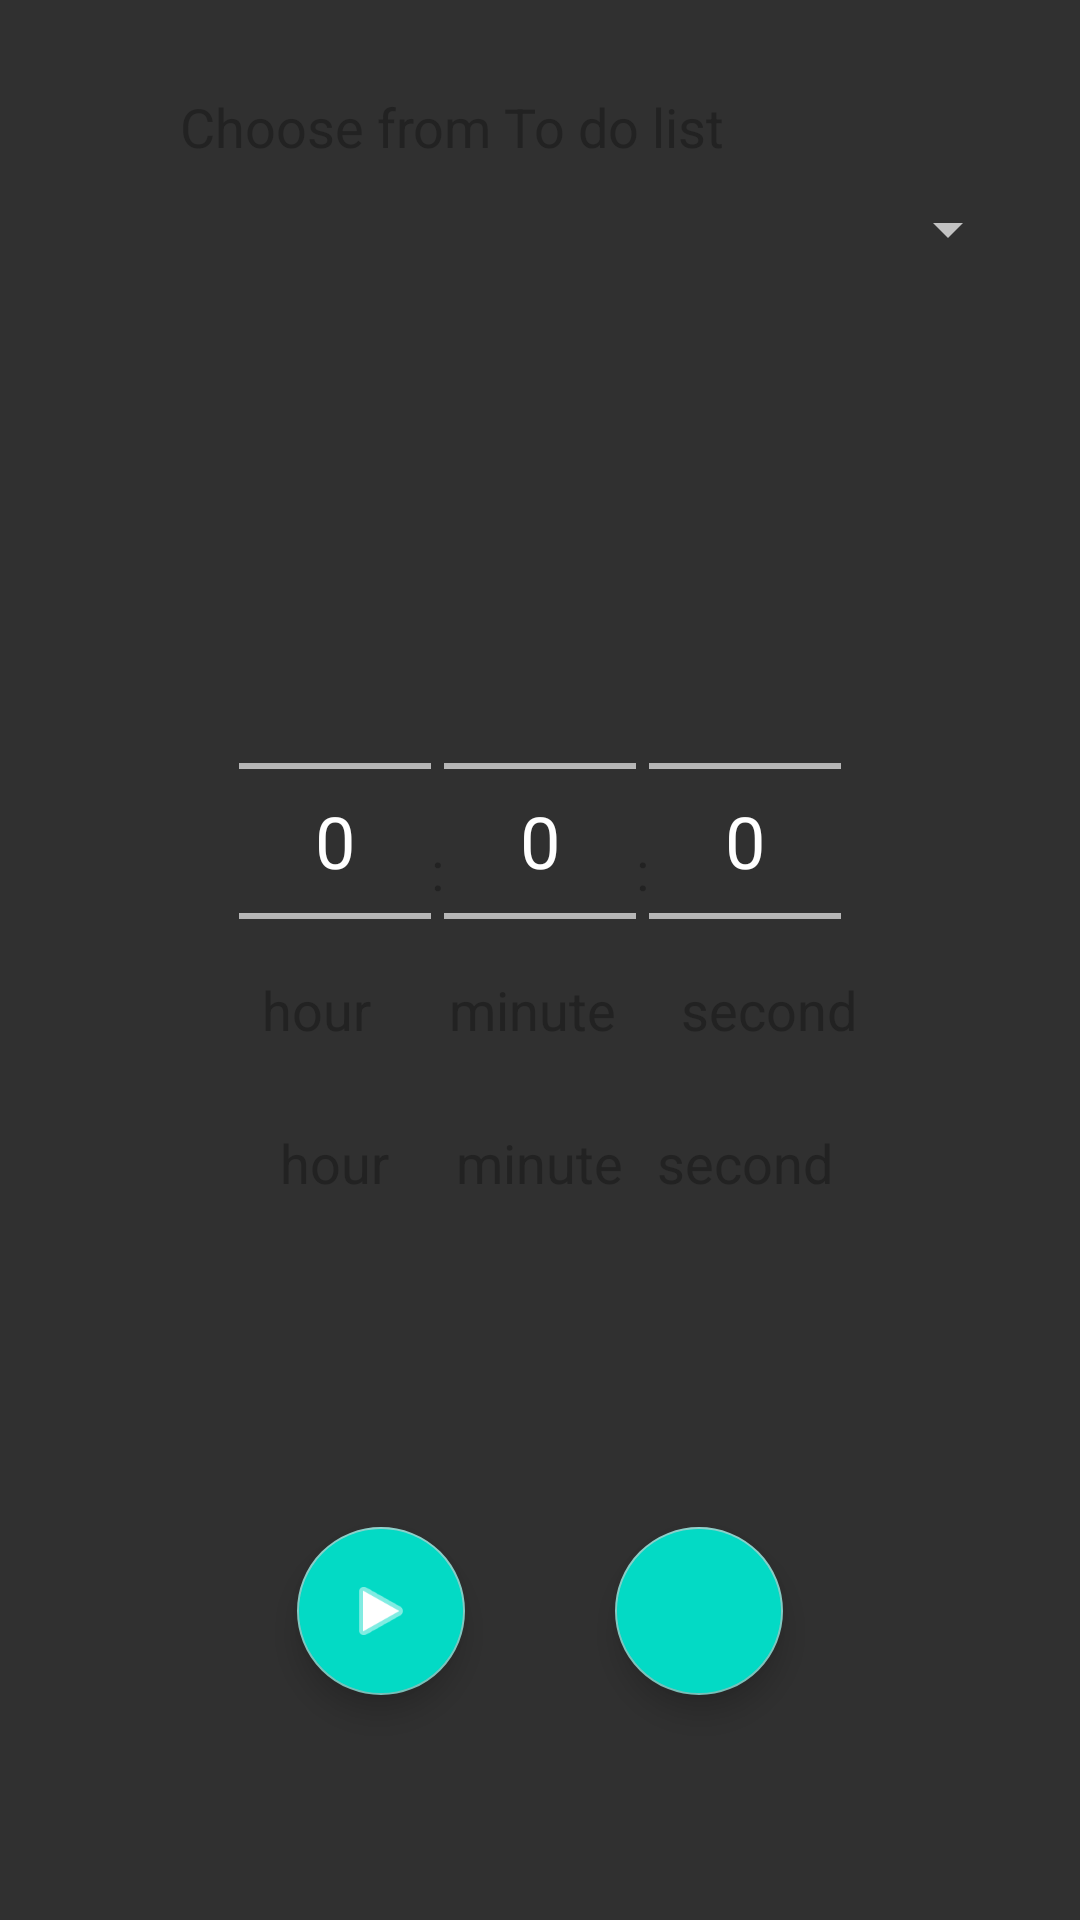

Locate icon controls on the screen. Image size 1080 × 1920, boxes as (x1, y1, x2, y2).
play: (297, 1527, 465, 1695)
